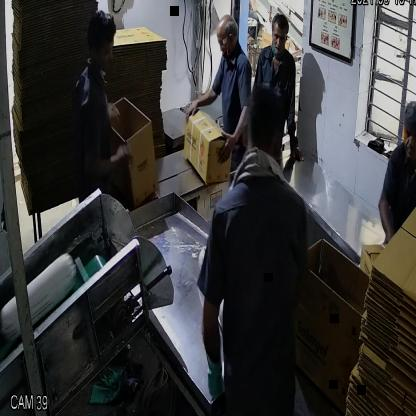glove: (194, 282, 231, 414)
no_glove: (372, 182, 402, 249), (82, 144, 140, 176), (220, 112, 252, 164), (182, 81, 222, 121), (98, 95, 126, 137)
